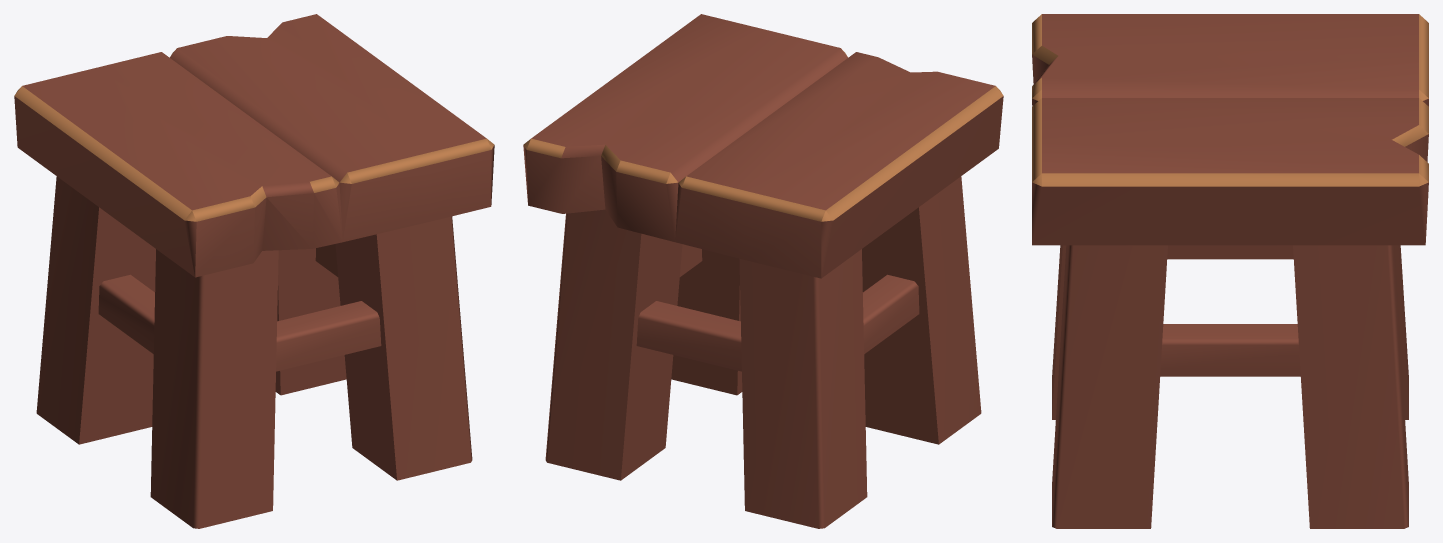
The picture shows the model from 3 angles, left to right: view 1: azimuth 30°, elevation 25°; view 2: azimuth 150°, elevation 25°; view 3: azimuth 270°, elevation 25°; orthographic projection. The views are drawn at different scales.
Parts seen in each view (by area): view 1: model; view 2: model; view 3: model.
Boxes of the visible parts, <box> form: model: <box>14,14,494,528</box>; model: <box>523,14,1003,528</box>; model: <box>1032,14,1428,528</box>.
Size of the model in its own units: 0.7 by 0.7 by 0.7.
